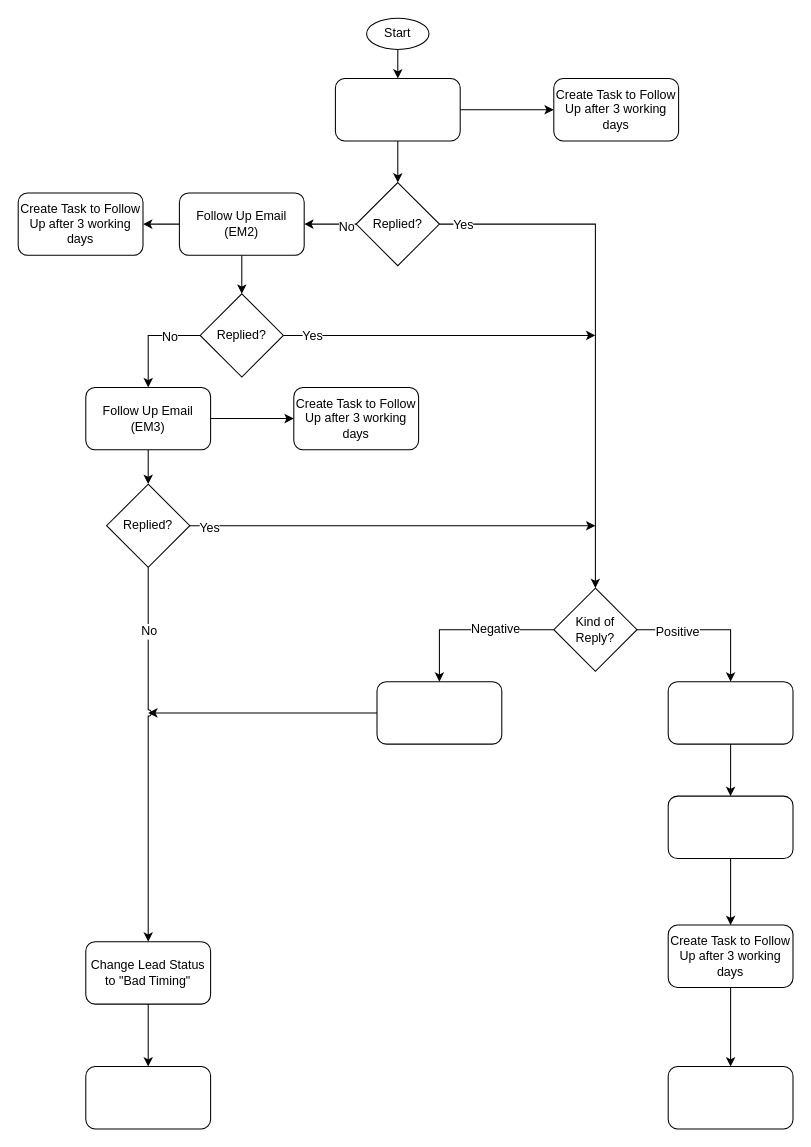
Image size: 811x1147. Some labels were removed from this diagram. The shapes that lost their labels are listed below. From the top down, each one's box as (x1, y1, x2, y2) in pixels, then its label:
(334, 77, 460, 141): Fist Cold Email (EM1)
(376, 681, 502, 744): Referral Email (EM4)
(667, 681, 793, 744): Resume Email (EM5)
(667, 795, 793, 859): Change Lead Status to "OPEN"
(85, 1065, 211, 1129): Create Task to Follow Up after 6 Months
(667, 1065, 793, 1129): Keep on the conversation and Book the meeting
